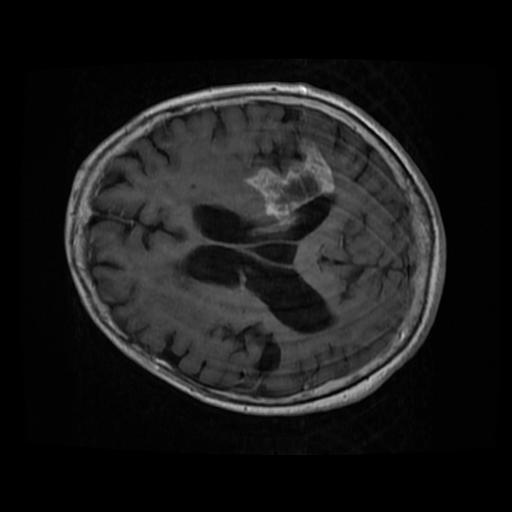glioma: (240, 137, 333, 227)
